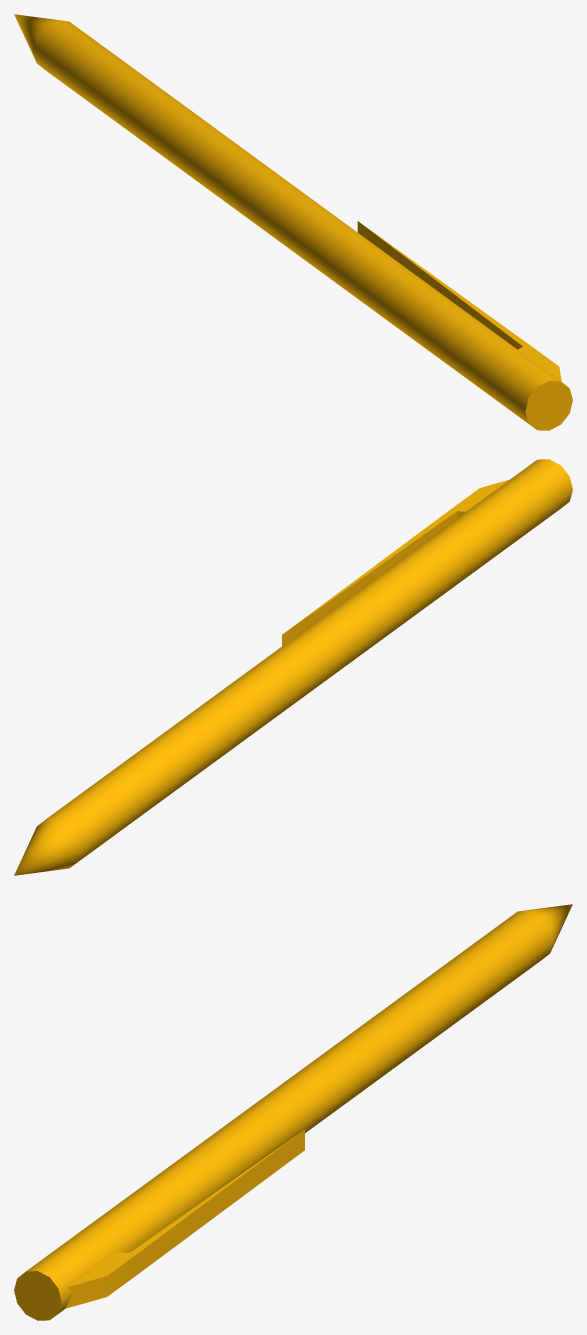
The model's file is Pen2.FBX.
3 views of the same model, one above another, from view 1: azimuth 30°, elevation 25°; view 2: azimuth 150°, elevation 25°; view 3: azimuth 330°, elevation 25° (orthographic).
Parts seen in each view (by area): view 1: SMPenBox_BASE002; view 2: SMPenBox_BASE002; view 3: SMPenBox_BASE002.
Part boxes in pixels (left/top/right/bottom): SMPenBox_BASE002: left=14, top=14, right=572, bottom=430; SMPenBox_BASE002: left=14, top=459, right=572, bottom=875; SMPenBox_BASE002: left=14, top=904, right=572, bottom=1320.
Bounding box in the file's own units: 1.05 × 0.7858 × 15.3.
